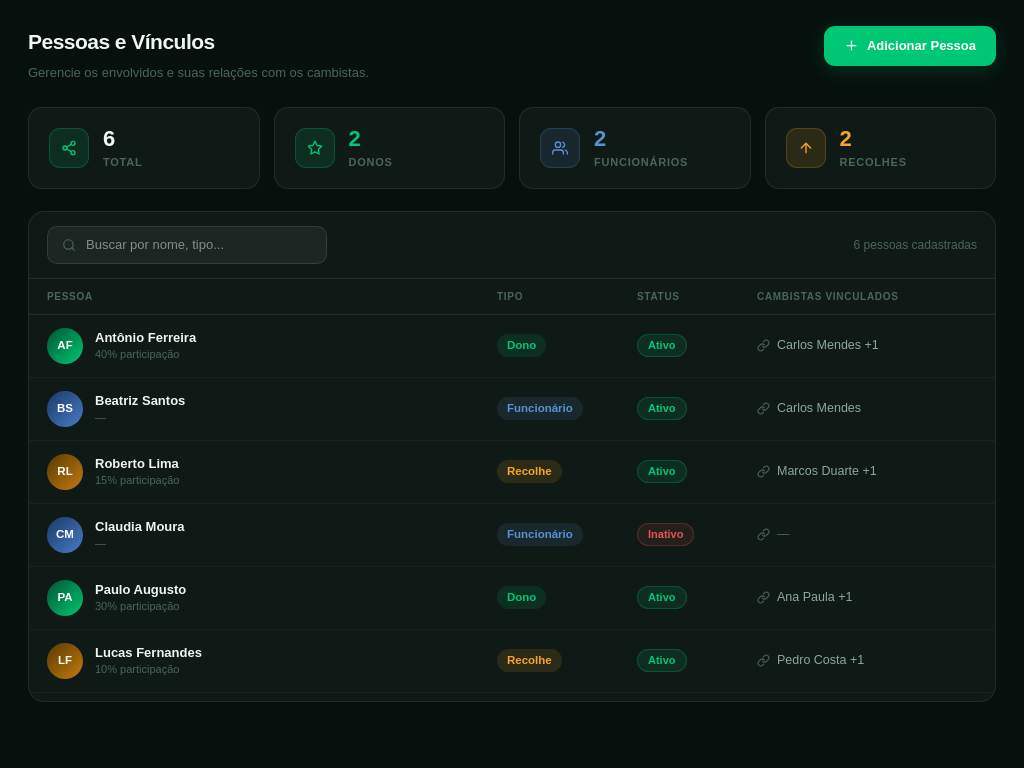
Test: PessoasPage › "Editar" sai do modo visualização e libera os campos para edição
Click the text "Antônio Ferreira" at (146, 338), box top-left (95, 330), bottom-right (196, 347)
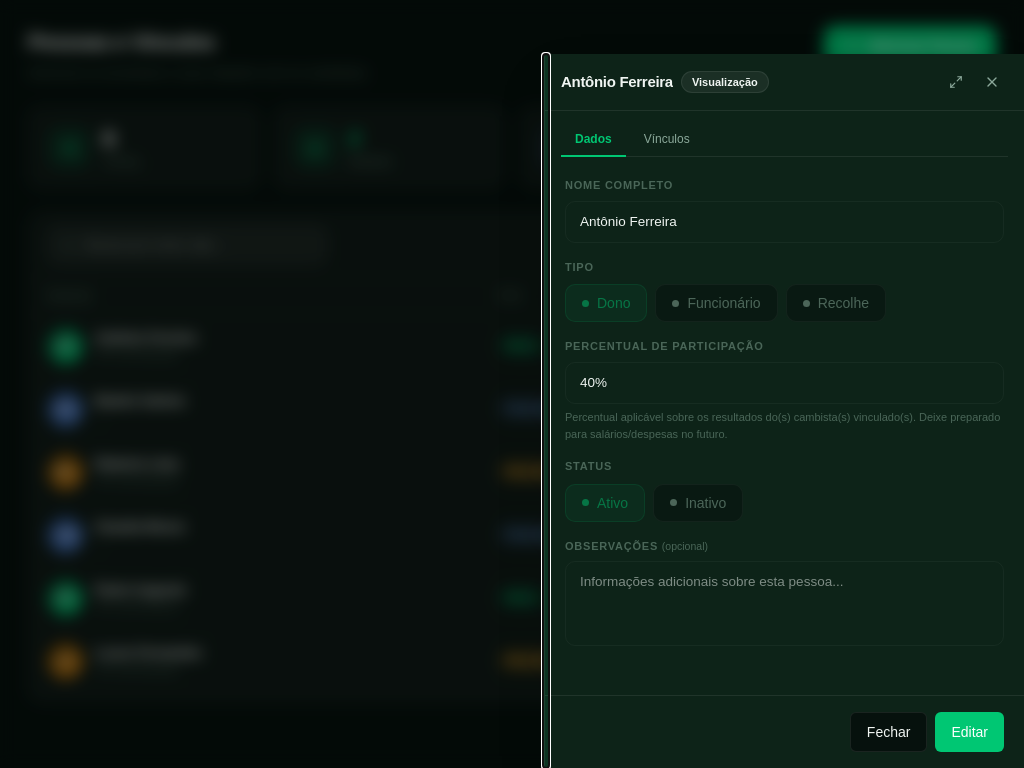
Click the button "Editar" at (970, 732), box top-left (935, 712), bottom-right (1004, 752)
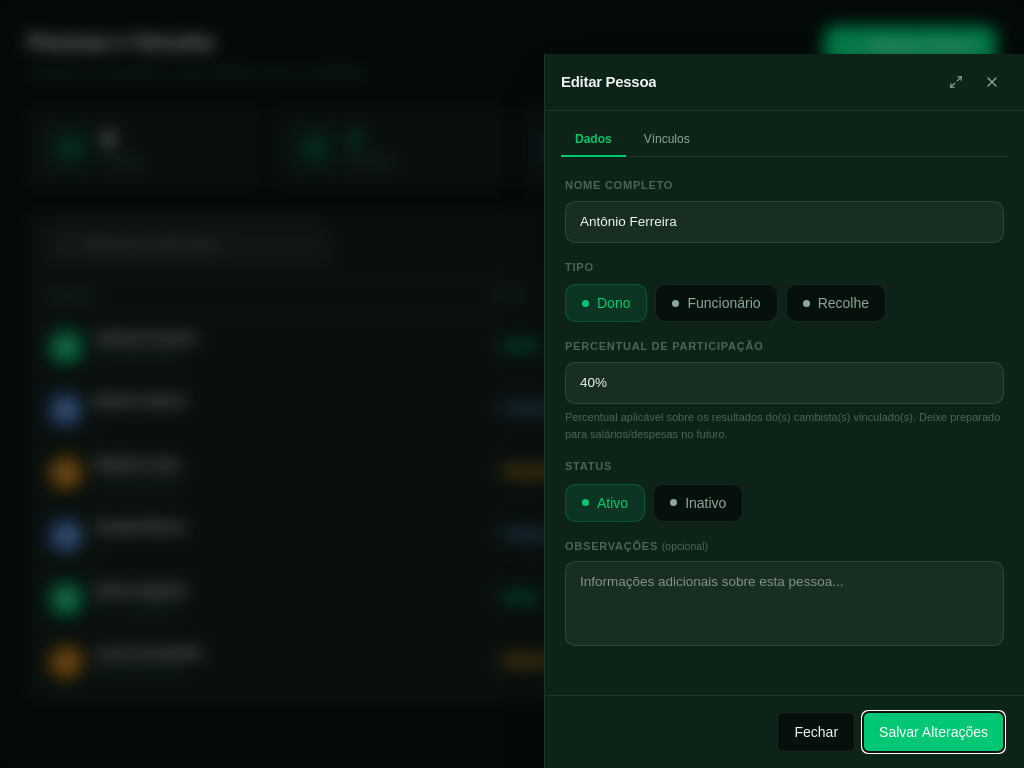
Expected: the text "Visualização" is gone
